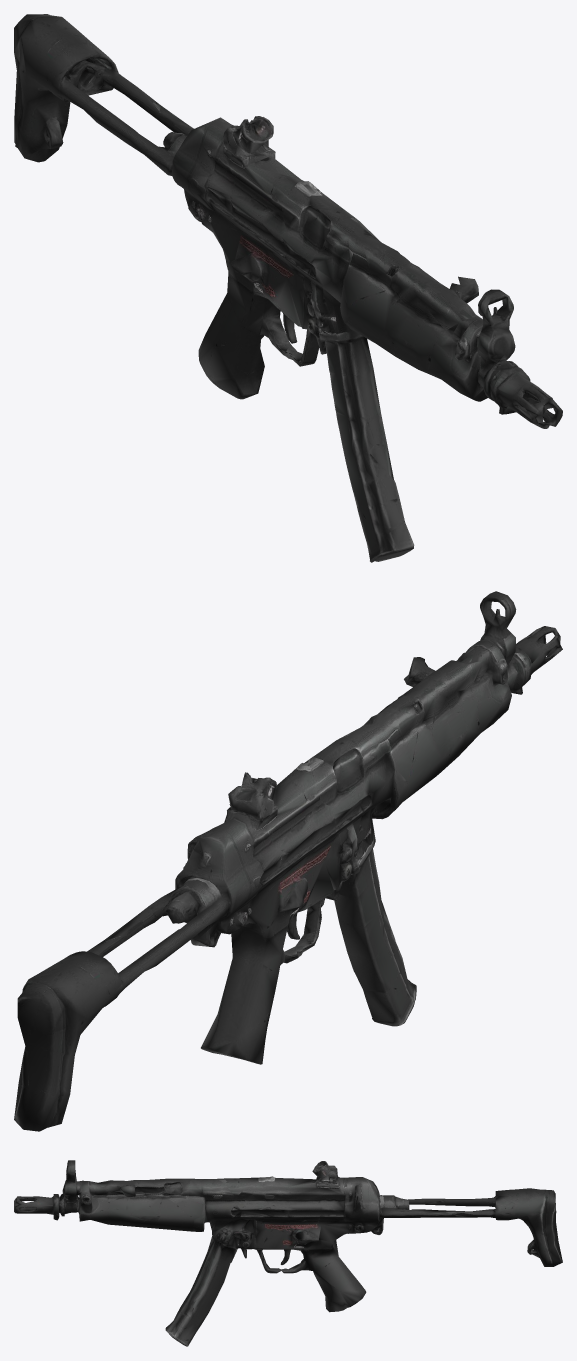
The picture shows the model from 3 angles, top to bottom: view 1: azimuth 30°, elevation 25°; view 2: azimuth 150°, elevation 25°; view 3: azimuth 270°, elevation 25°; orthographic projection. The views are drawn at different scales.
Parts seen in each view (by area): view 1: turn; view 2: turn; view 3: turn.
Boxes of the visible parts, x1,y1,x2,y2 form: turn: (14, 14, 562, 562); turn: (14, 591, 562, 1131); turn: (14, 1160, 562, 1346).
Bounding box in the file's own units: 0.1431 × 0.6964 × 1.9.
1 material, 1 textured.
